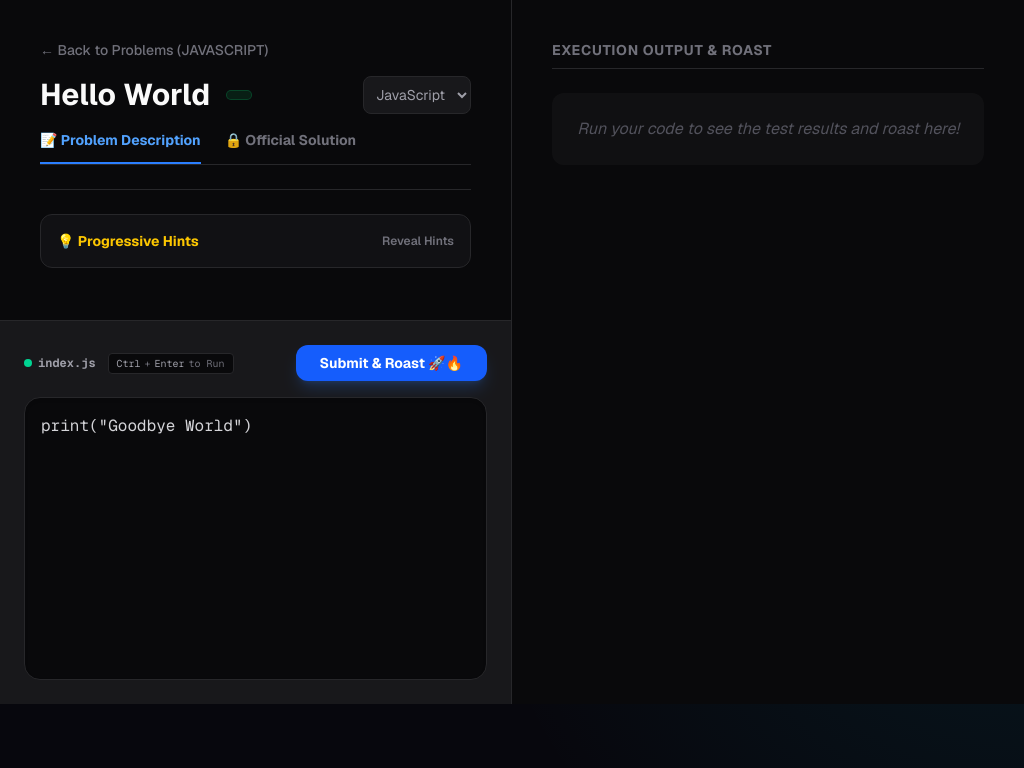
ProblemSolverPage - Execution Feedback › fails beginner script problem when stdout does not match expectedOutput
Click the button "Submit & Roast 🚀🔥". click: (391, 363)
box: x1=296 y1=345 x2=487 y2=381
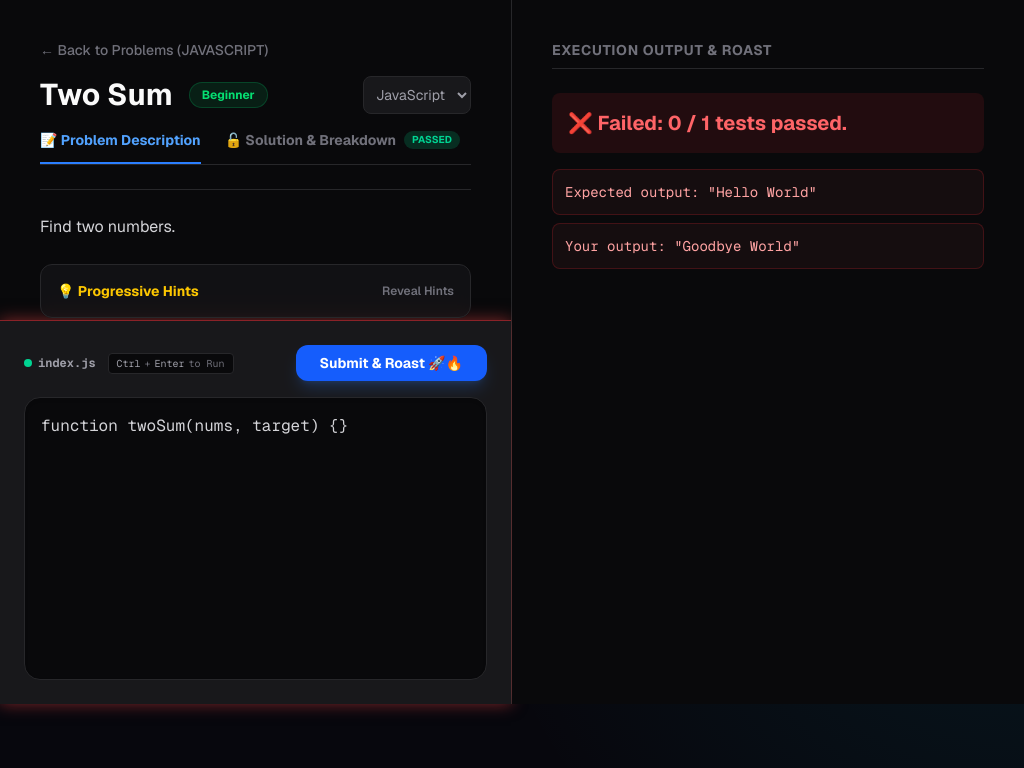
Result: the text "❌ Failed: 0 / 1 tests passed." is shown at x1=568 y1=109 x2=847 y2=137
Result: the list item "Expected output: \"Hello World\"" is shown at x1=552 y1=169 x2=984 y2=215
Result: the list item "Your output: \"Goodbye World\"" is shown at x1=552 y1=223 x2=984 y2=269
